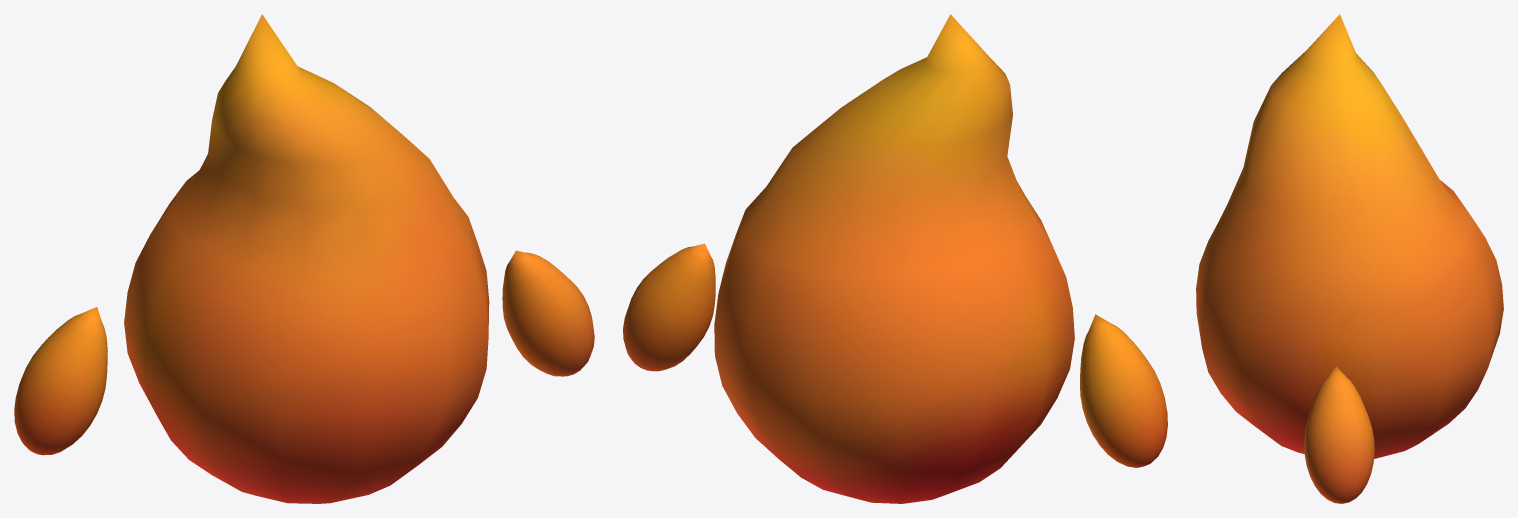
Rendered from babyBlazebody.fbx.
3 views of the same model, side by side, from view 1: azimuth 30°, elevation 25°; view 2: azimuth 150°, elevation 25°; view 3: azimuth 270°, elevation 25° (orthographic). The views are drawn at different scales.
Parts seen in each view (by area): view 1: node_id20; view 2: node_id20; view 3: node_id20.
Boxes of the visible parts, box(x1,y1,x2,y2) form: node_id20: box(14, 14, 594, 503); node_id20: box(623, 14, 1167, 503); node_id20: box(1196, 14, 1503, 503).
Size of the model in its own units: 0.5101 by 0.4287 by 0.2907.
Materials: 1 (1 with a texture image).
